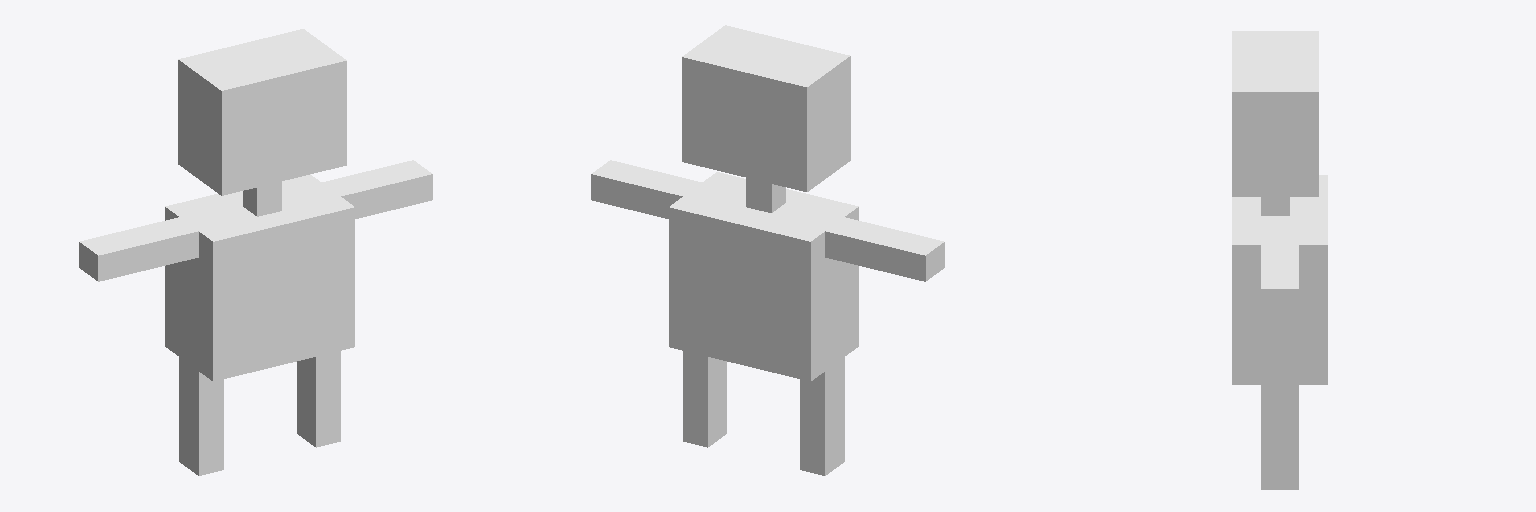
The model's file is lv1.vox.obj.
3 renders of one model, left to right at view 1: azimuth 30°, elevation 25°; view 2: azimuth 150°, elevation 25°; view 3: azimuth 270°, elevation 25°, orthographic.
Parts seen in each view (by area): view 1: object 1; view 2: object 1; view 3: object 1.
Part boxes in pixels (x1,y1,x2,y2): object 1: (79,29,432,475); object 1: (591,25,944,475); object 1: (1232,31,1327,489).
Size of the model in its own units: 4 by 4.5 by 1.